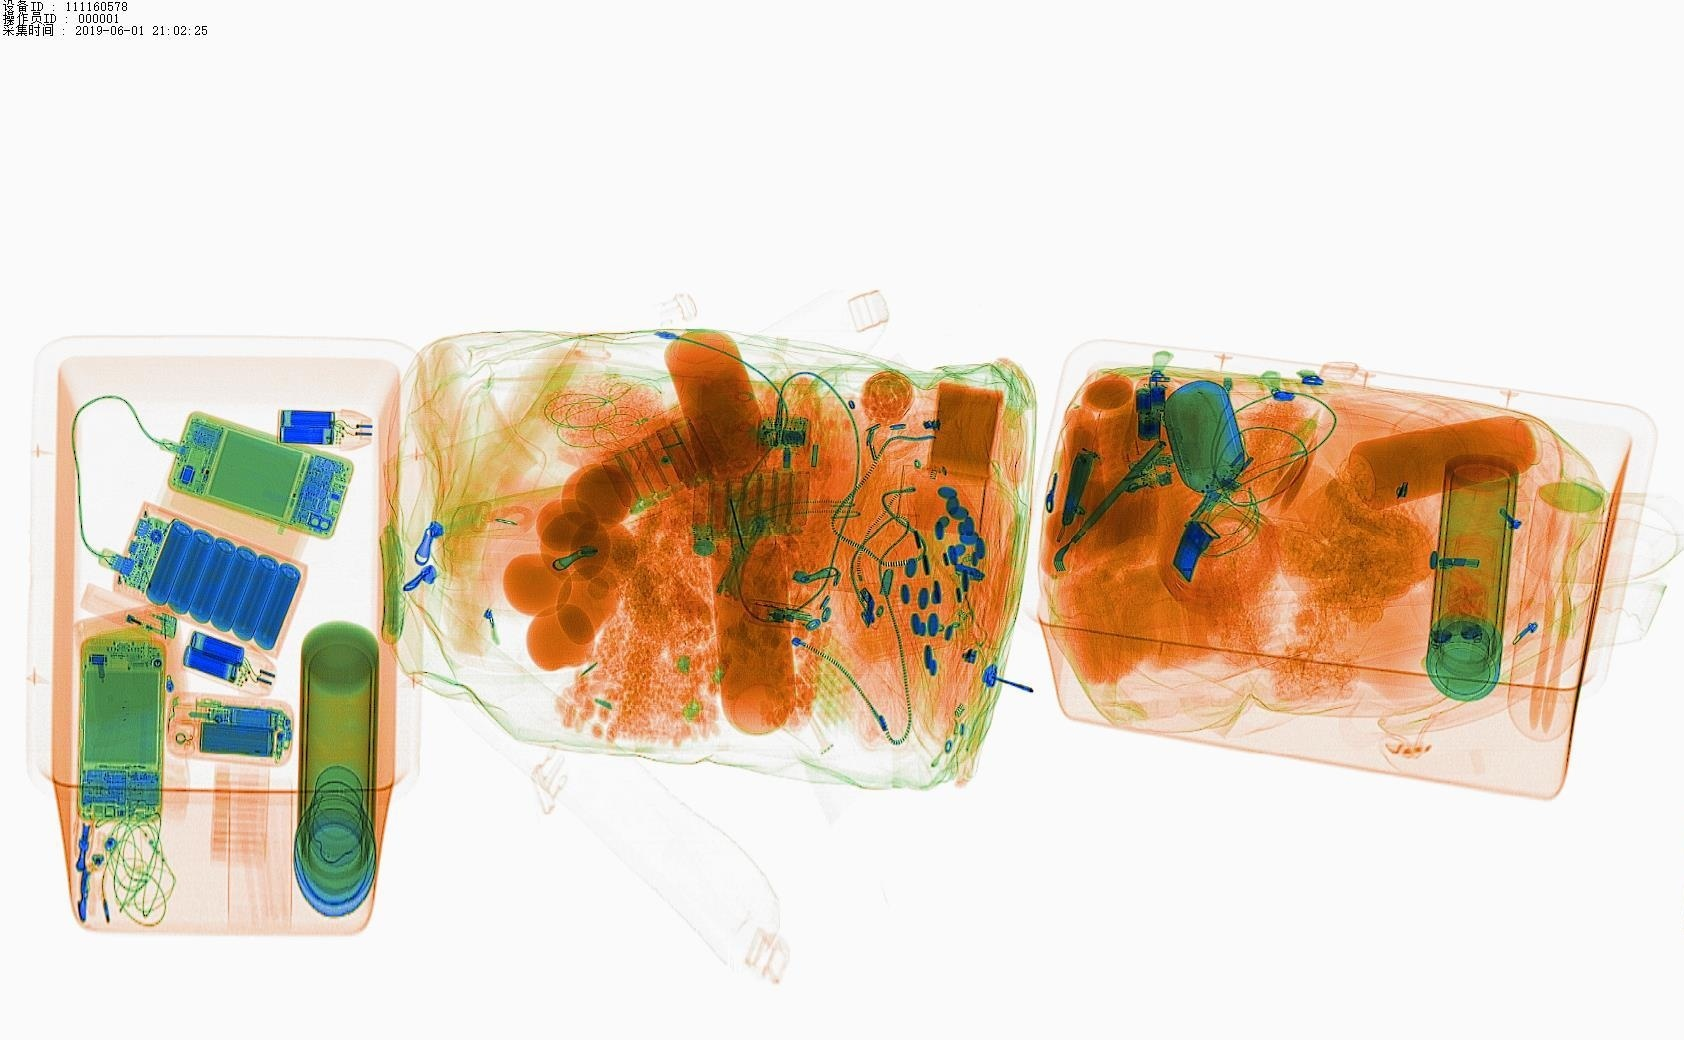NonmetallicFire: (66, 580, 184, 650)
